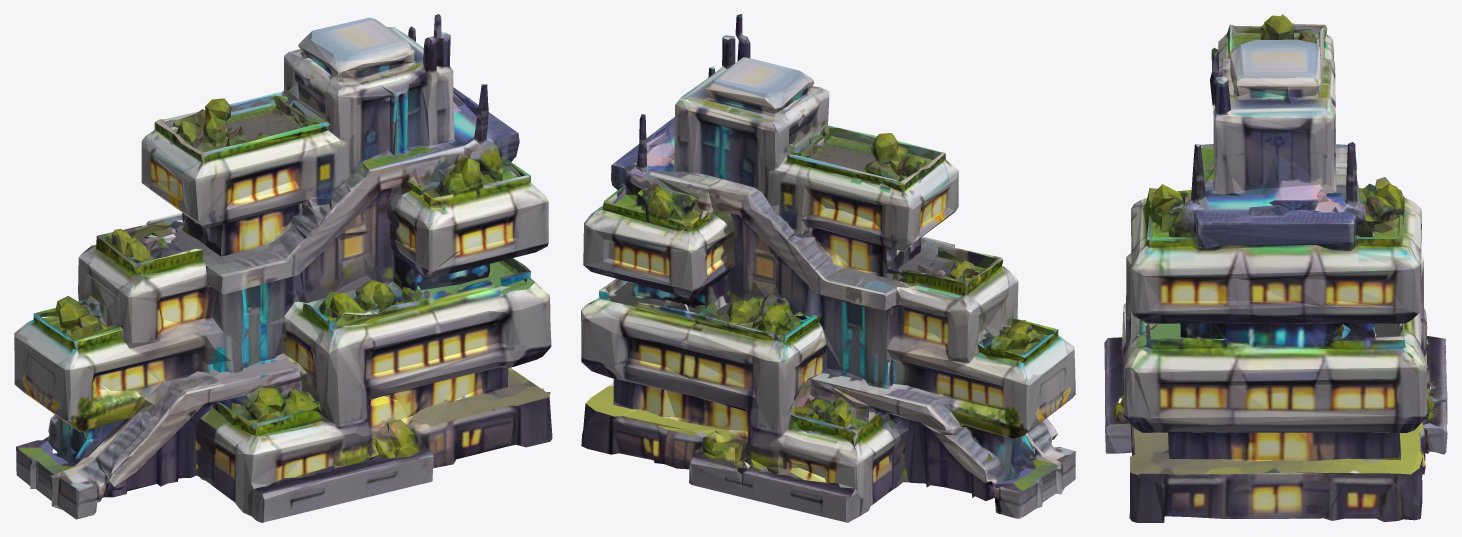
Rendered from cyber_housing_block_1117.glb.
The picture shows the model from 3 angles, left to right: view 1: azimuth 30°, elevation 25°; view 2: azimuth 150°, elevation 25°; view 3: azimuth 270°, elevation 25°; orthographic projection. The views are drawn at different scales.
Visible parts, largest first — view 1: tmpvkqmpkxo.ply; view 2: tmpvkqmpkxo.ply; view 3: tmpvkqmpkxo.ply.
Part boxes in pixels (bbox=[...]): tmpvkqmpkxo.ply: bbox=[14, 14, 552, 522]; tmpvkqmpkxo.ply: bbox=[581, 14, 1075, 522]; tmpvkqmpkxo.ply: bbox=[1104, 14, 1447, 522].
Bounding box in the file's own units: 1.97 × 1.74 × 1.25.
1 material, 1 textured.
